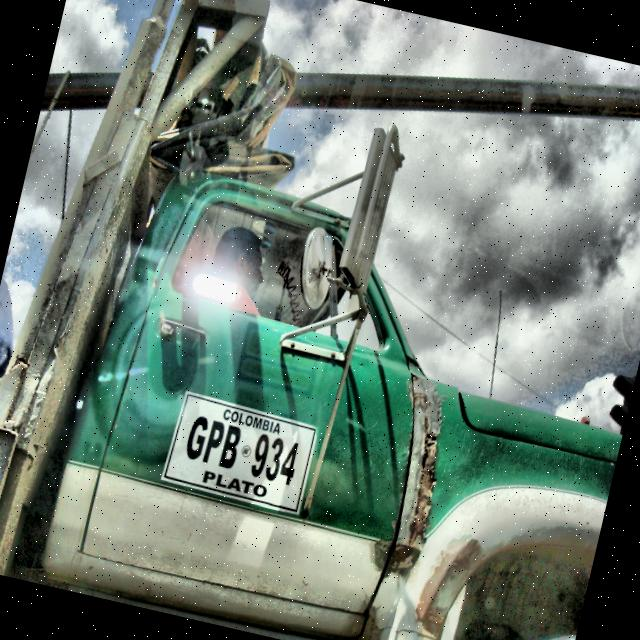3: (262, 434, 287, 486)
4: (276, 438, 303, 488)
9: (245, 430, 272, 481)
B: (217, 422, 245, 471)
G: (180, 410, 212, 462)
P: (201, 416, 228, 466)
